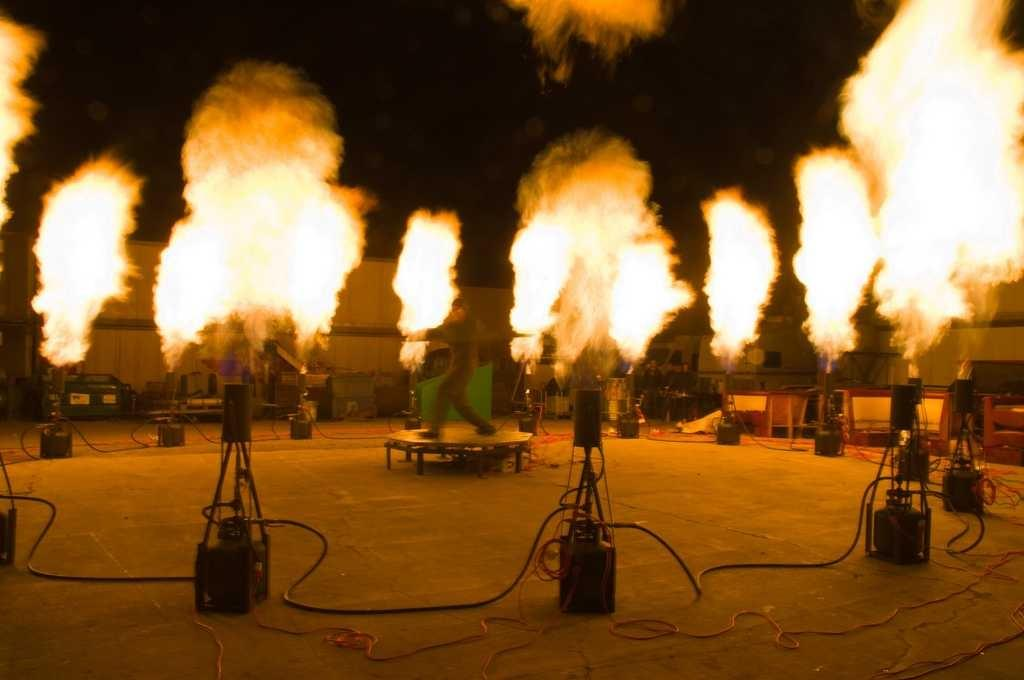fire: (883, 23, 998, 315), (185, 175, 333, 333), (528, 192, 657, 345), (45, 175, 125, 317), (807, 167, 865, 348), (712, 200, 765, 350), (400, 227, 465, 325)
